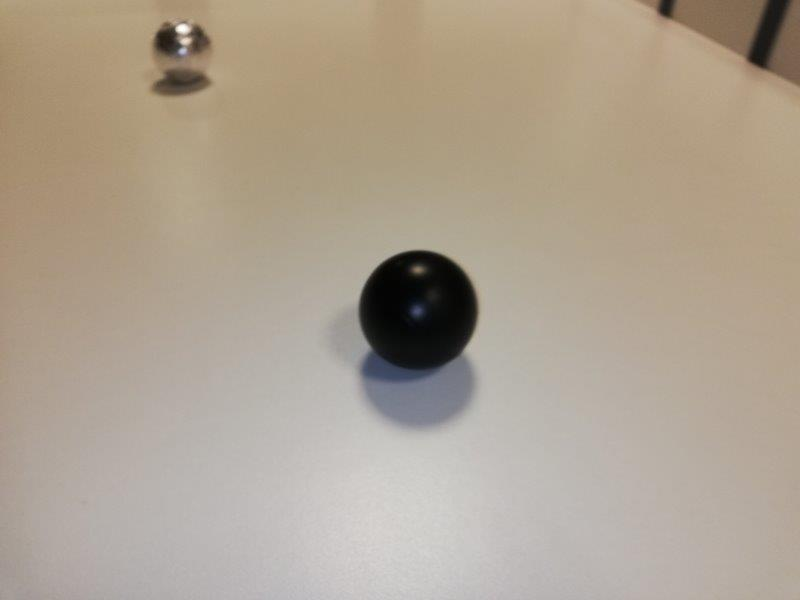bianca: (148, 20, 214, 82)
nera: (359, 249, 479, 372)
